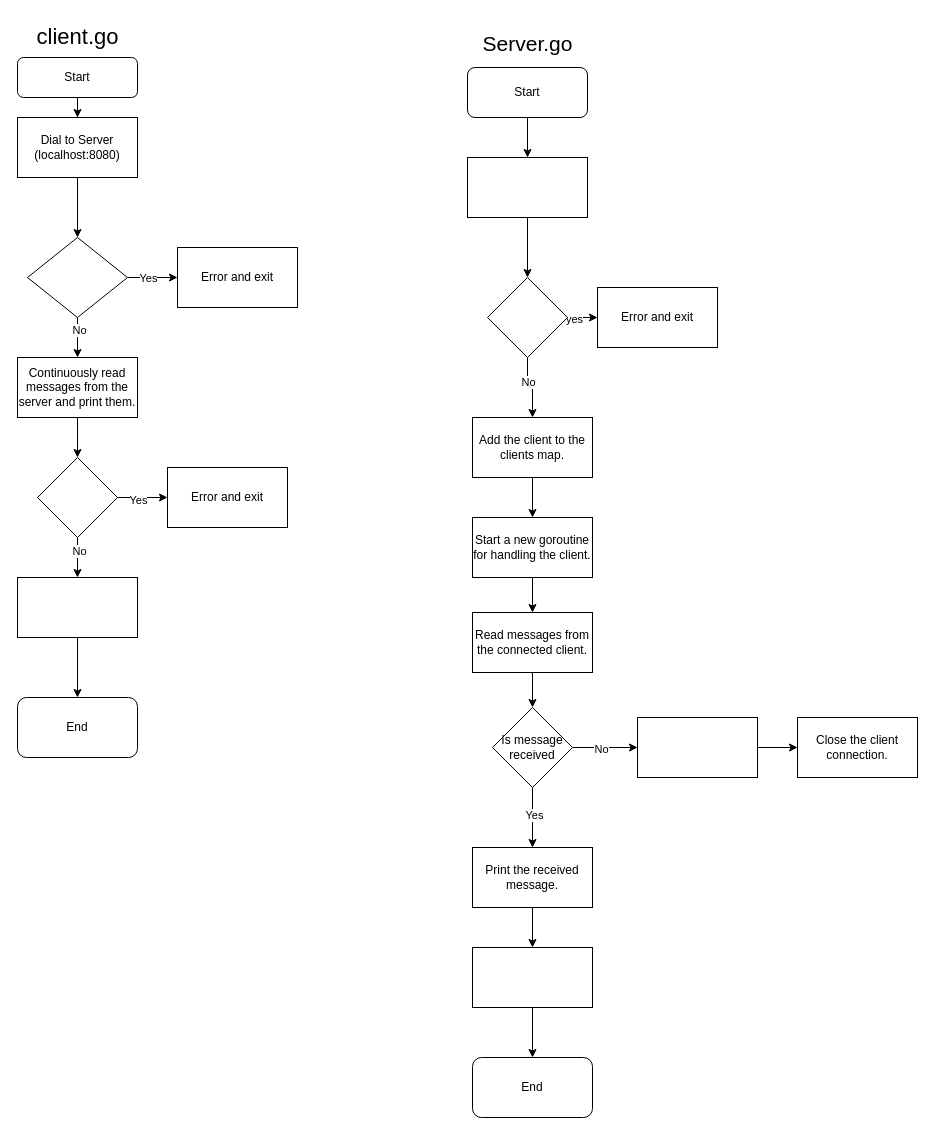
Some shapes in this 935 by 1135 pixel diagram are drawn without their labels. The centre of each missing label's shape, as x and y in pixels:
"For each user input, write the message to the server." goes at (x=77, y=607).
"I s connection fail?" goes at (x=77, y=277).
"Is server disconnect" goes at (x=77, y=497).
"Is server fail" goes at (x=527, y=317).
"Remove client from the clients map." goes at (x=697, y=747).
"Send the message to all other connected clients." goes at (x=532, y=977).
"Start TCP Server on Port 8080" goes at (x=527, y=187).
